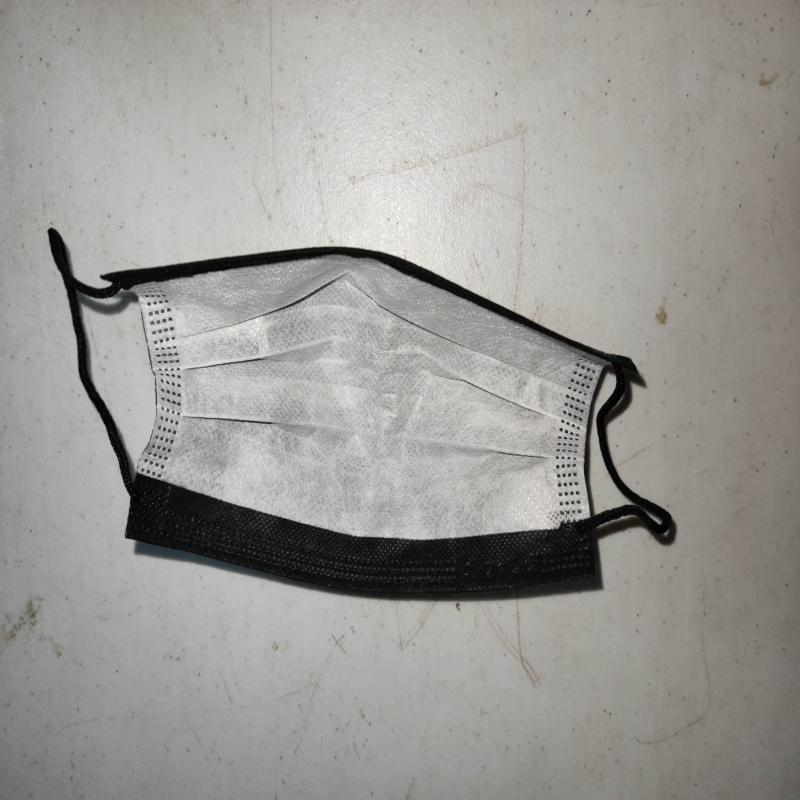facemask: (47, 230, 677, 605)
